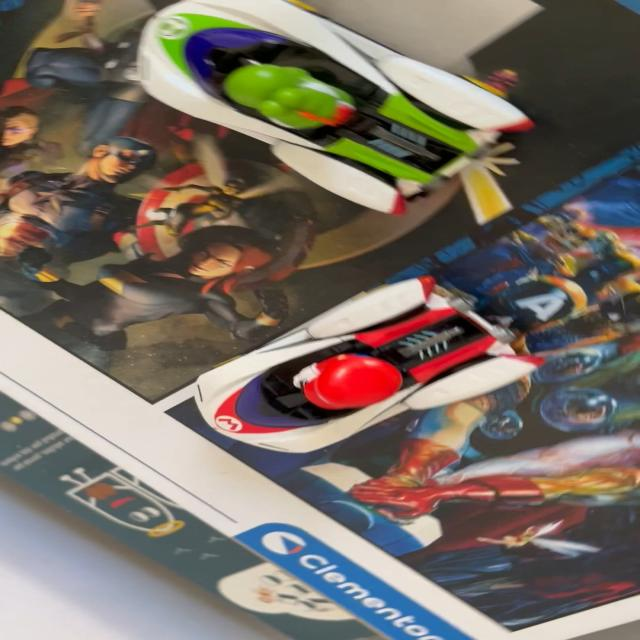mario: (190, 269, 563, 469)
yoshi: (104, 0, 556, 230)
